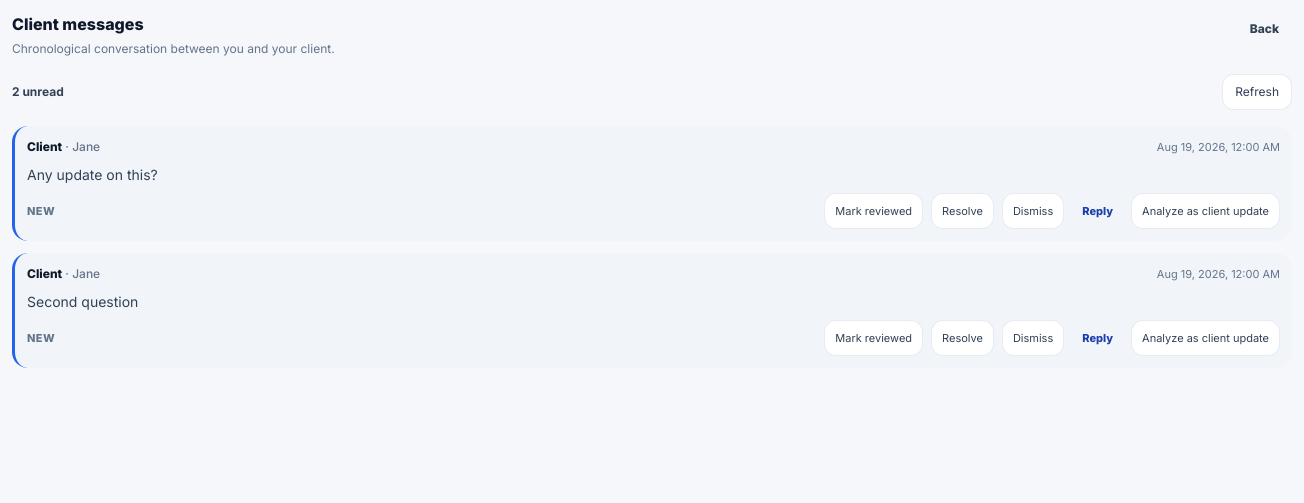
Scenario: ClientCommunicationHistoryModal - reply UX › 54. only one reply composer is open at a time
Expected: the text "Second question" is shown, x1=27 y1=293 x2=138 y2=310
Click the 1st button "Reply". click: (1098, 211)
box: x1=1072 y1=193 x2=1123 y2=229
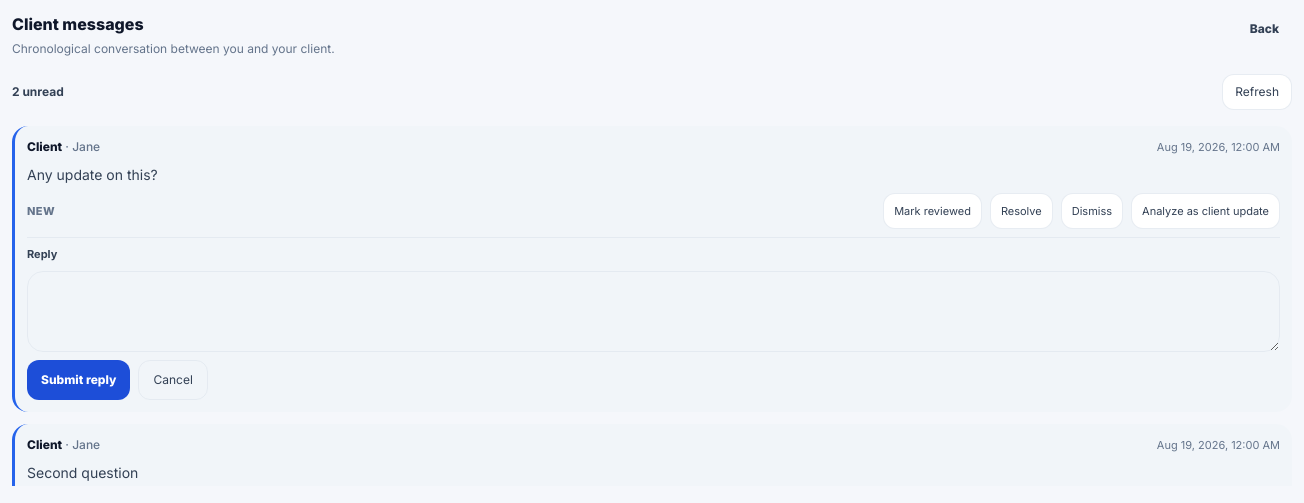
Expected: the number of buttons "Submit reply" is 1, x1=27 y1=360 x2=130 y2=400
